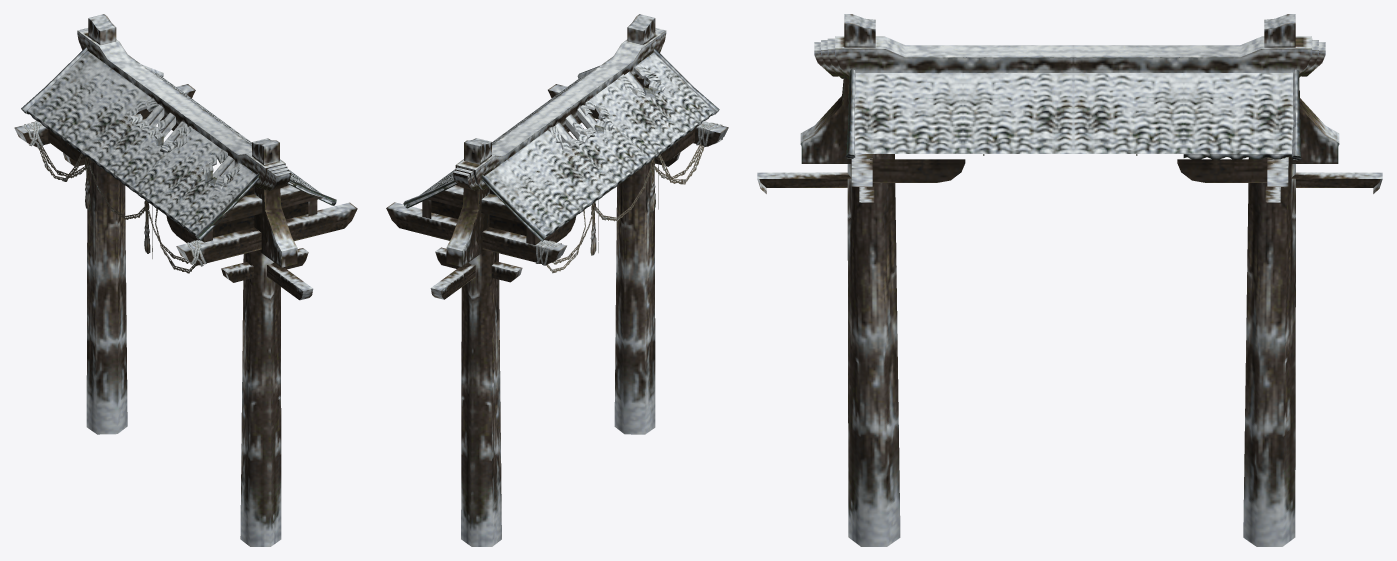
Rendered from bs_paifan_1.FBX.
The picture shows the model from 3 angles, left to right: view 1: azimuth 30°, elevation 25°; view 2: azimuth 150°, elevation 25°; view 3: azimuth 270°, elevation 25°; orthographic projection. The views are drawn at different scales.
Parts seen in each view (by area): view 1: bs_paifan_1; view 2: bs_paifan_1; view 3: bs_paifan_1.
Boxes of the visible parts, x1=… form: bs_paifan_1: x1=14, y1=14, x2=357, y2=546; bs_paifan_1: x1=386, y1=14, x2=728, y2=546; bs_paifan_1: x1=757, y1=14, x2=1382, y2=546.
Size of the model in its own units: 500 by 1110 by 1214.
